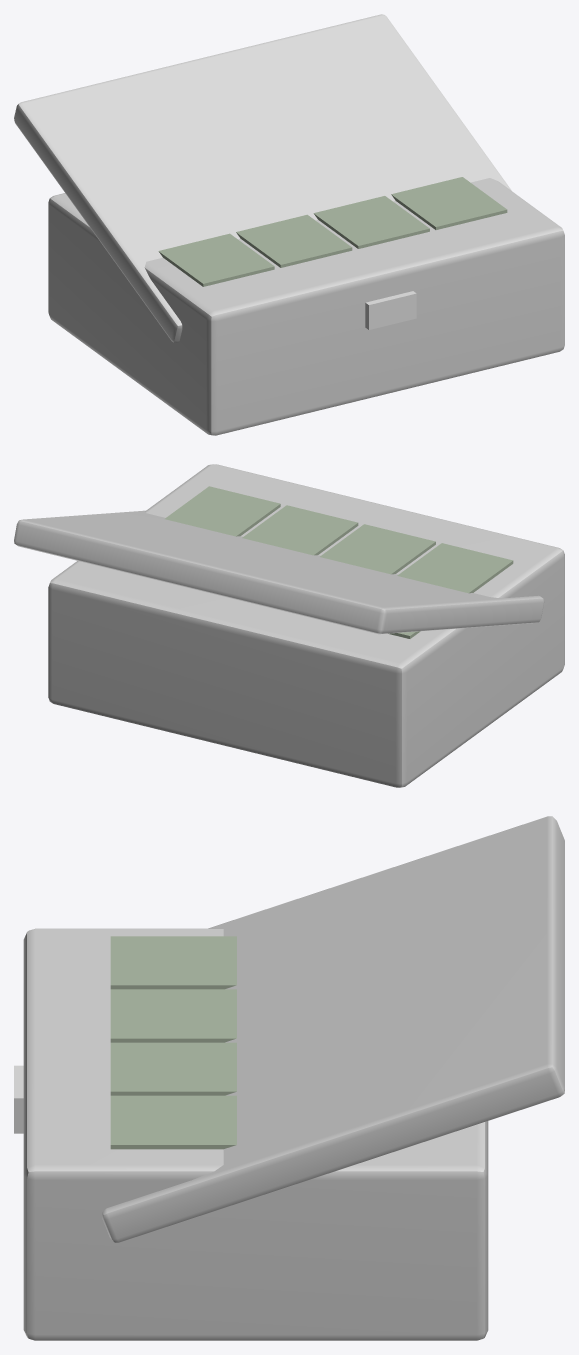
Rendered from SM_CashBox.fbx.
3 renders of one model, top to bottom at view 1: azimuth 30°, elevation 25°; view 2: azimuth 150°, elevation 25°; view 3: azimuth 270°, elevation 25°, orthographic. The views are drawn at different scales.
Visible parts, largest first — view 1: SM_CashBox_1; view 2: SM_CashBox_1; view 3: SM_CashBox_1.
Boxes of the visible parts, x1=… form: SM_CashBox_1: x1=14, y1=14, x2=564, y2=435; SM_CashBox_1: x1=14, y1=464, x2=564, y2=787; SM_CashBox_1: x1=14, y1=816, x2=564, y2=1340.
Size of the model in its own units: 31 by 16.08 by 28.45.
